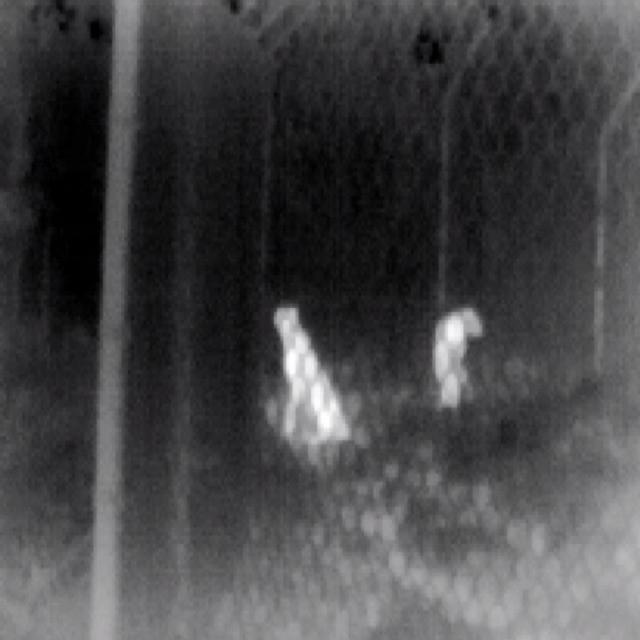cheetah: (275, 305, 348, 447), (434, 309, 484, 407)
